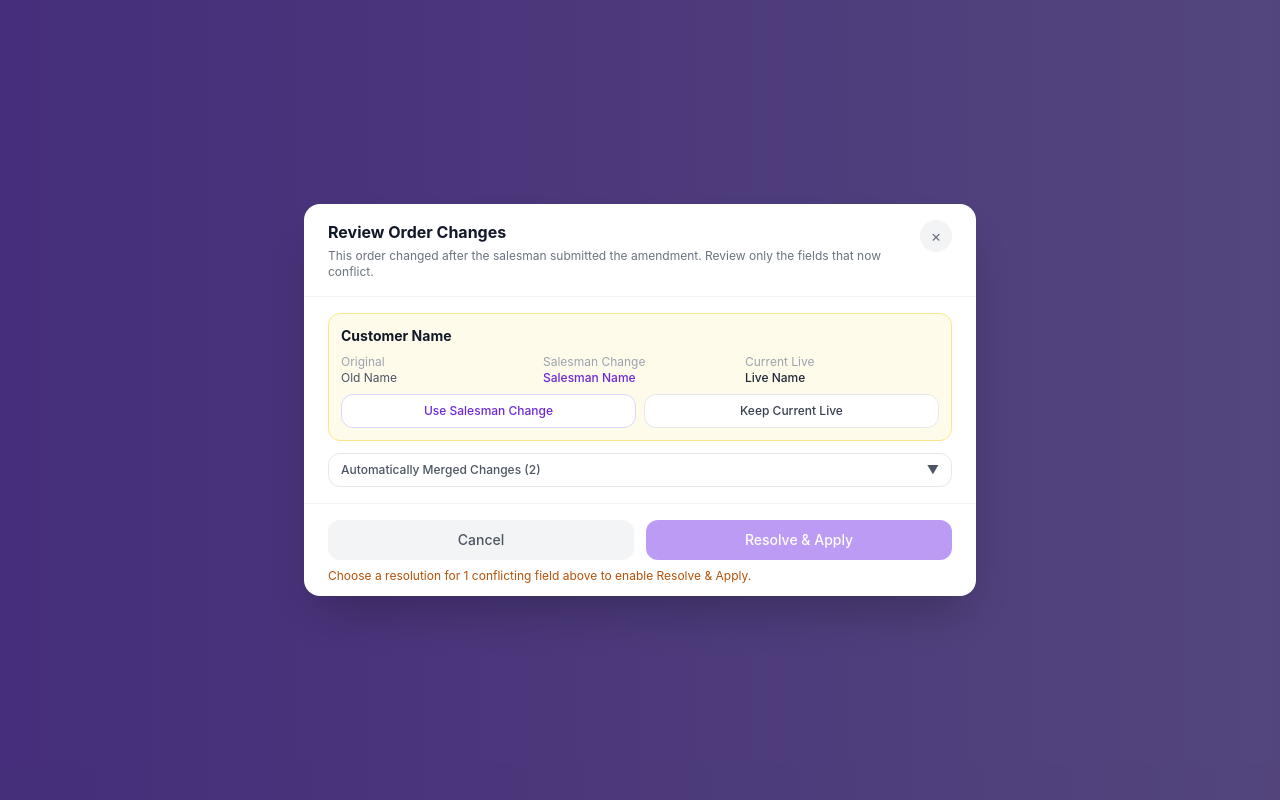
AmendmentRebaseReview — Resolve & Apply gating › an ACTUAL conflict: the button is disabled and the exact reason is shown until it is resolved
Expected: the button "Resolve & Apply" is disabled, [646,520,952,560]
Expected: the text with test id "resolve-blocked-reason" shows "Choose a resolution for 1 conflicting field", [328,568,751,583]
What coordinates should you click on to do the following:
click the button "Keep Current Live"
I would click on:
 (792, 411)
Its box is [644,394,939,428].
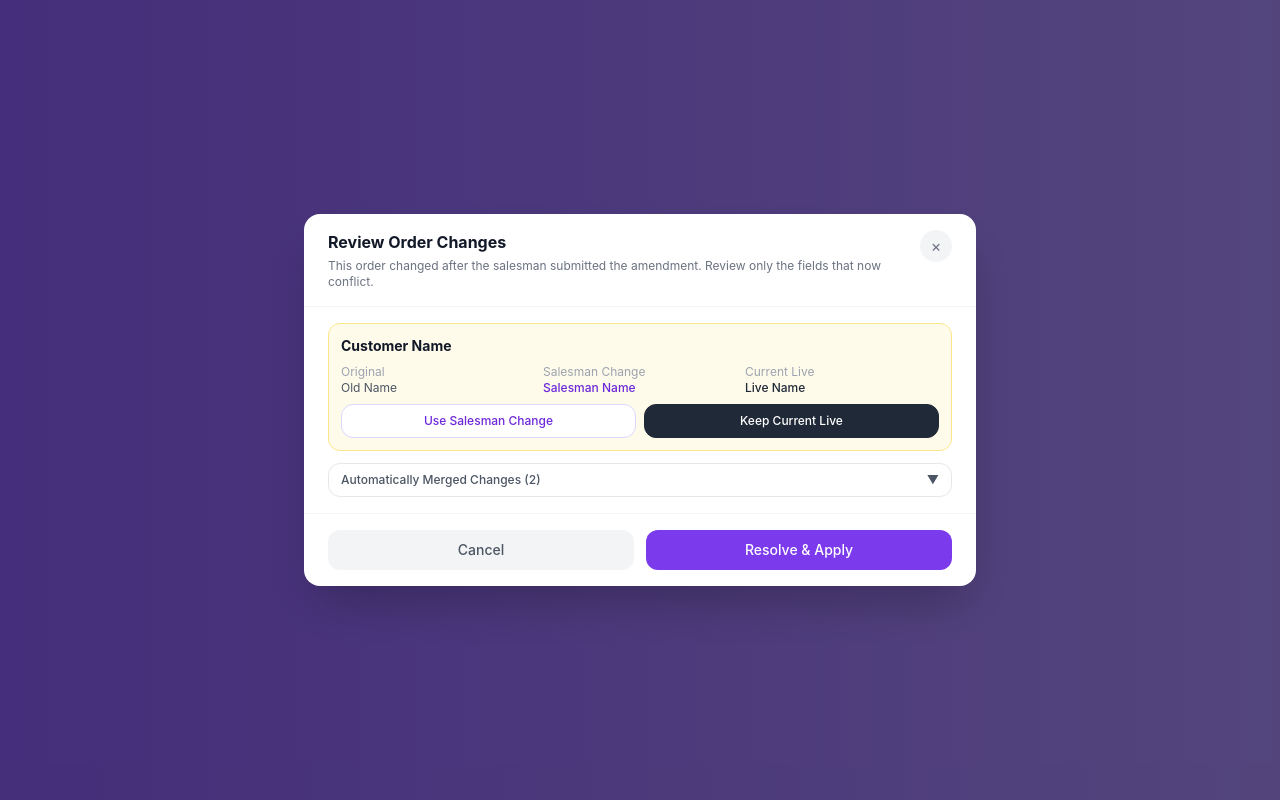
Expected: the button "Resolve & Apply" is enabled, [646,530,952,570]
Expected: the text with test id "resolve-blocked-reason" is gone
